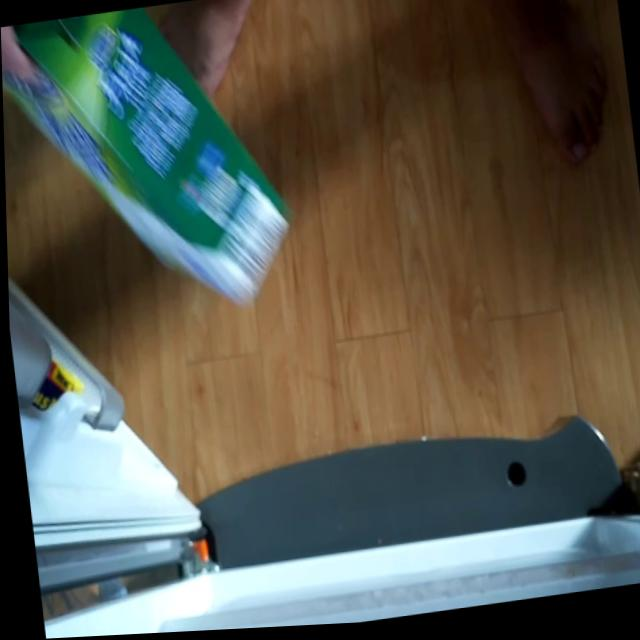milk: (0, 0, 309, 343)
